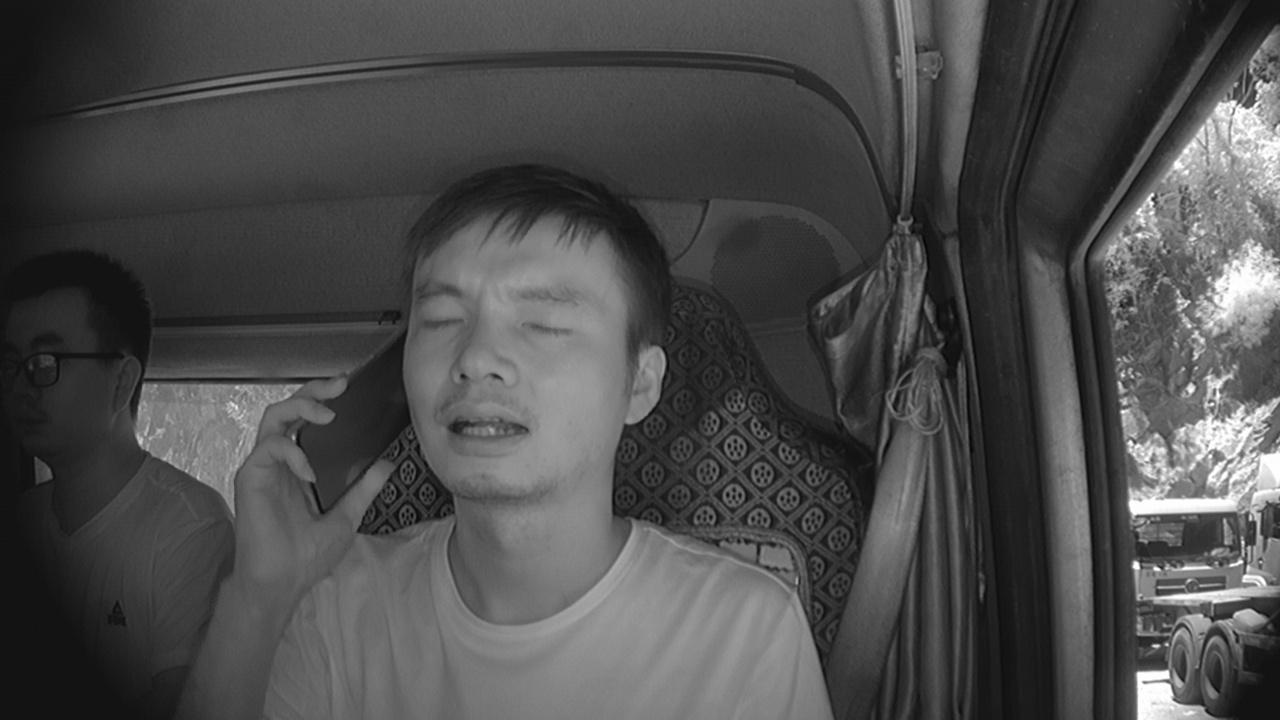hand: (221, 369, 389, 590)
